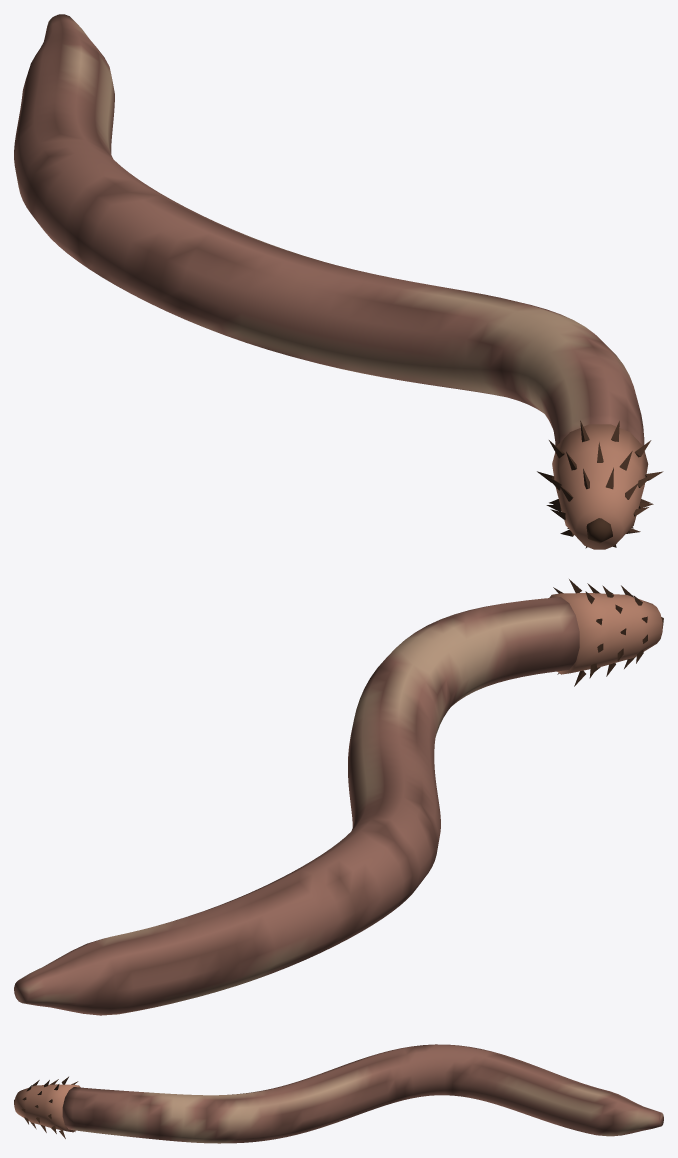
File: PalaeoscolexPiscatorum.fbx
3 renders of one model, top to bottom at view 1: azimuth 30°, elevation 25°; view 2: azimuth 150°, elevation 25°; view 3: azimuth 270°, elevation 25°, orthographic. The views are drawn at different scales.
Parts seen in each view (by area): view 1: PalaeoscolexPiscatorum; view 2: PalaeoscolexPiscatorum; view 3: PalaeoscolexPiscatorum.
Part boxes in pixels (x1,y1,x2,y2): PalaeoscolexPiscatorum: (14, 14, 663, 549); PalaeoscolexPiscatorum: (14, 579, 663, 1015); PalaeoscolexPiscatorum: (14, 1044, 663, 1143).
Bounding box in the file's own units: 0.463 × 0.1866 × 1.88.
